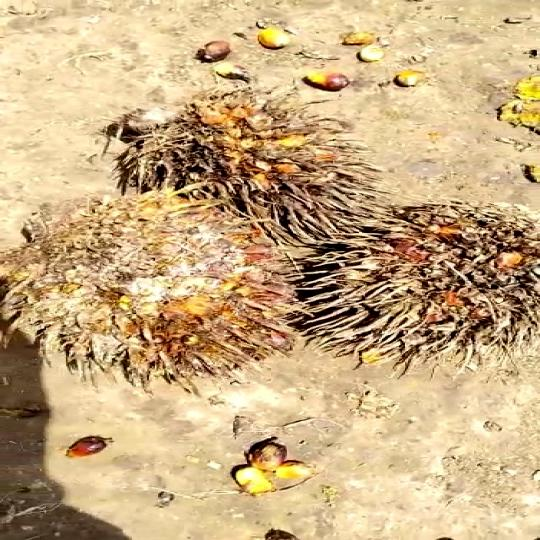terlalu masak: (0, 186, 328, 396), (94, 94, 383, 247), (284, 203, 540, 360)
